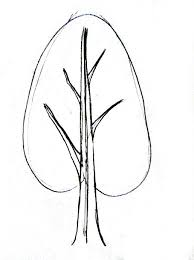tree: (15, 9, 167, 235)
